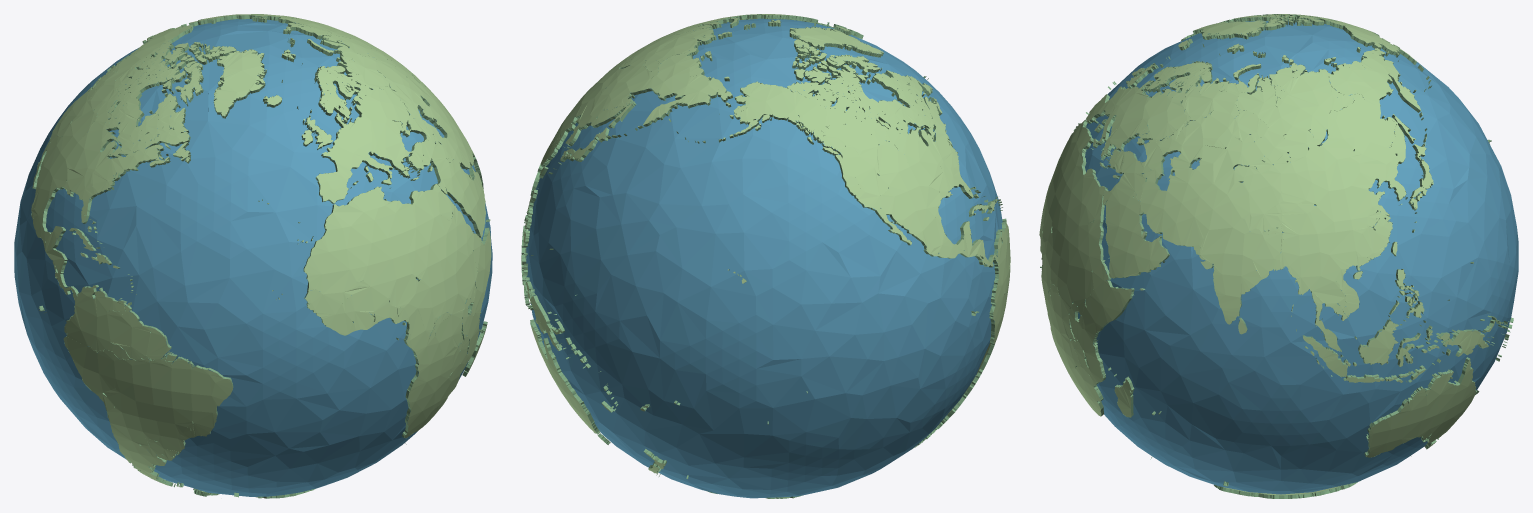
File: globe.glb
The picture shows the model from 3 angles, left to right: view 1: azimuth 30°, elevation 25°; view 2: azimuth 150°, elevation 25°; view 3: azimuth 270°, elevation 25°; orthographic projection.
Visible parts, largest first — view 1: Ocean, Land, CoastWalls; view 2: Ocean, Land, CoastWalls; view 3: Ocean, Land, CoastWalls.
Boxes of the visible parts, box(x1,y1,x2,y2) form: Ocean: box(14, 19, 492, 496); Land: box(31, 14, 491, 498); CoastWalls: box(31, 15, 491, 498); Ocean: box(526, 18, 1002, 498); Land: box(521, 14, 1010, 493); CoastWalls: box(521, 14, 1010, 498); Ocean: box(1069, 20, 1518, 494); Land: box(1039, 14, 1507, 495); CoastWalls: box(1039, 14, 1513, 498).
Size of the model in its own units: 2.03 by 2.03 by 2.01.
